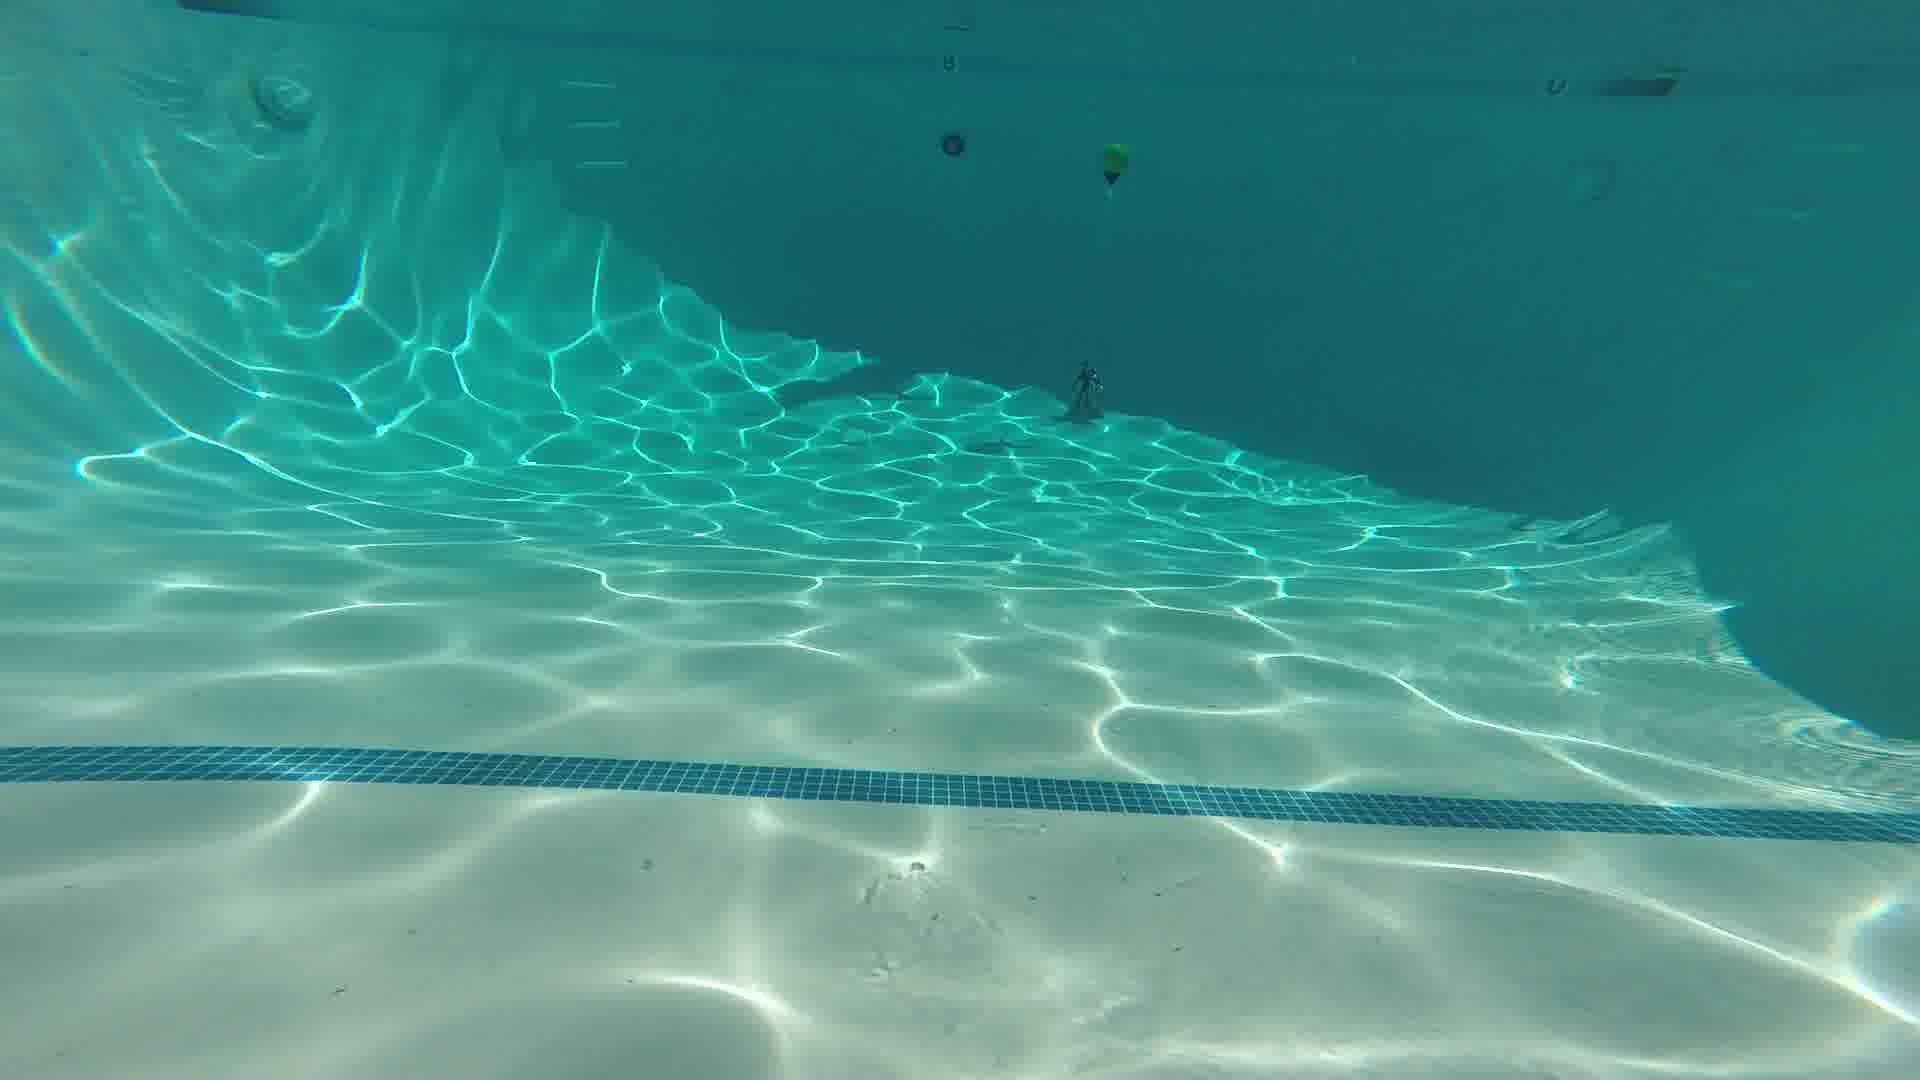yellow buoy: (1091, 135, 1137, 191)
